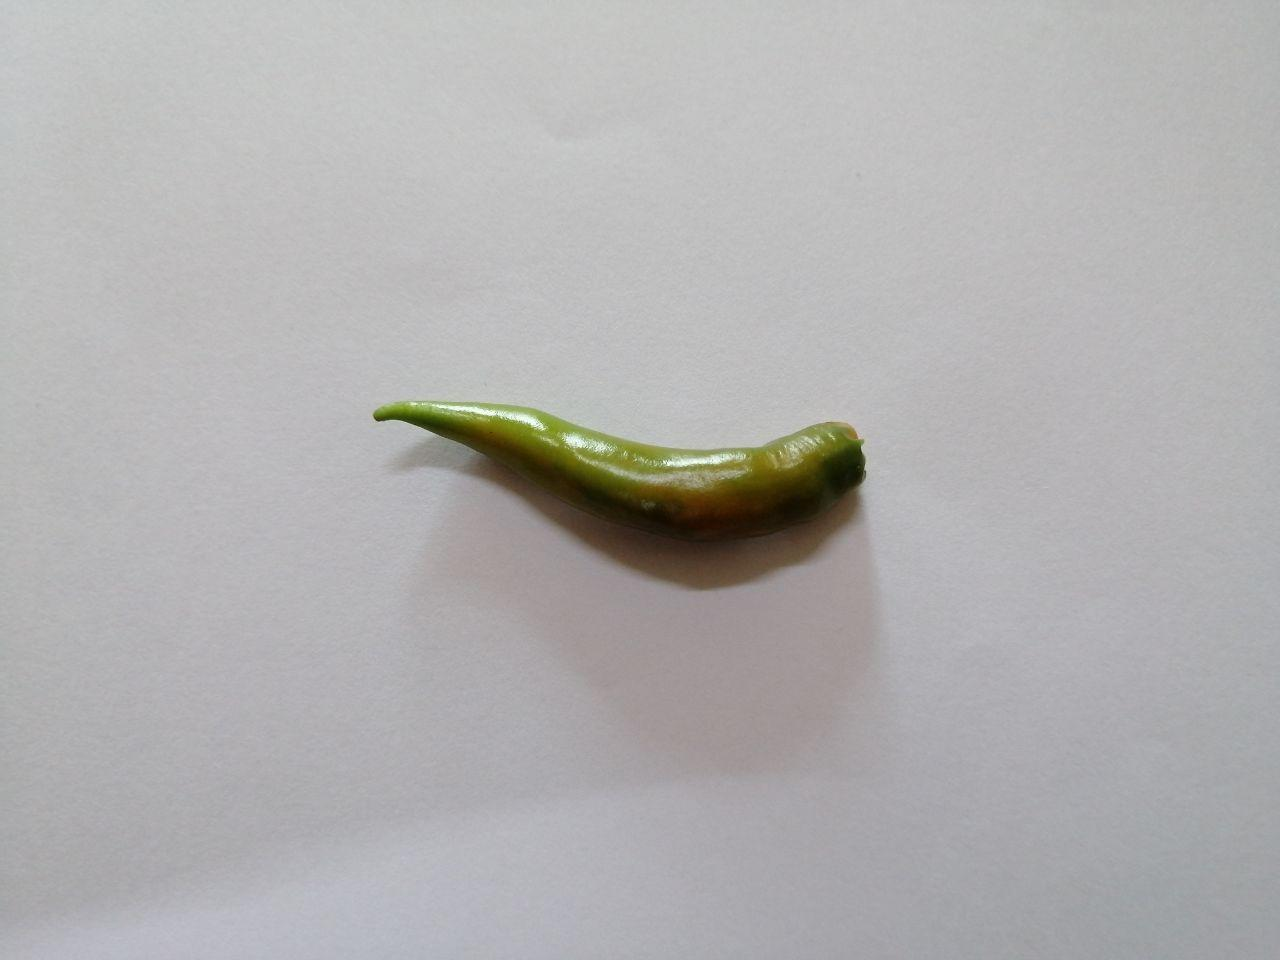lada hijau: (362, 378, 890, 567)
